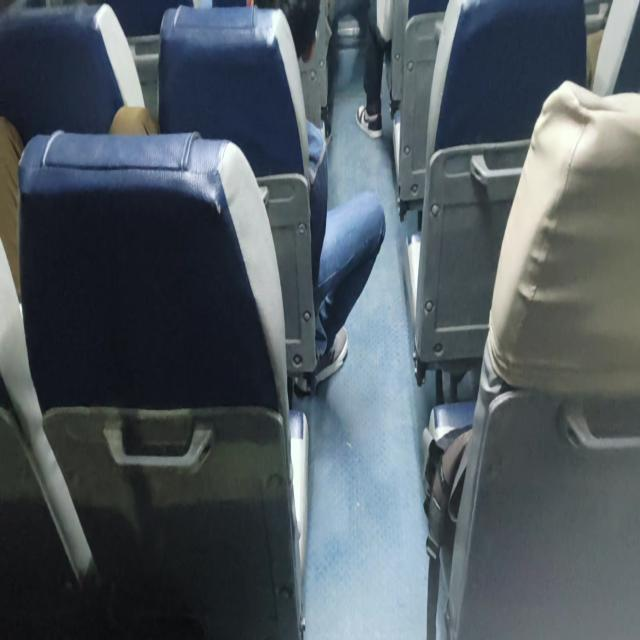person: (214, 0, 334, 90)
